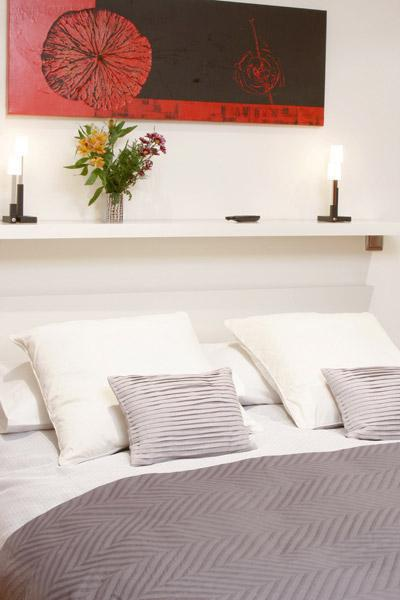Cama: (5, 293, 397, 599)
